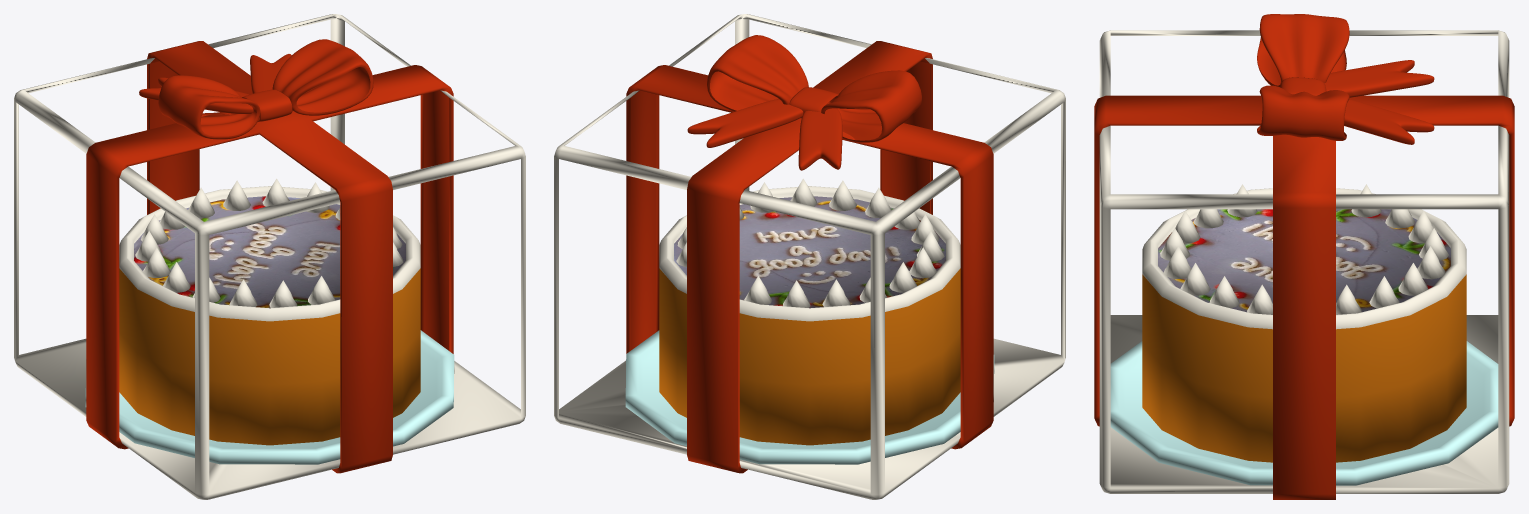
File: Zapakowany_prezent.fbx
The picture shows the model from 3 angles, left to right: view 1: azimuth 30°, elevation 25°; view 2: azimuth 150°, elevation 25°; view 3: azimuth 270°, elevation 25°; orthographic projection. The views are drawn at different scales.
Parts seen in each view (by area): view 1: Cone; view 2: Cone; view 3: Cone.
Part boxes in pixels (bbox=[...]): Cone: bbox=[14, 14, 525, 499]; Cone: bbox=[554, 14, 1065, 499]; Cone: bbox=[1094, 14, 1514, 499].
Size of the model in its own units: 255 by 241 by 255.
